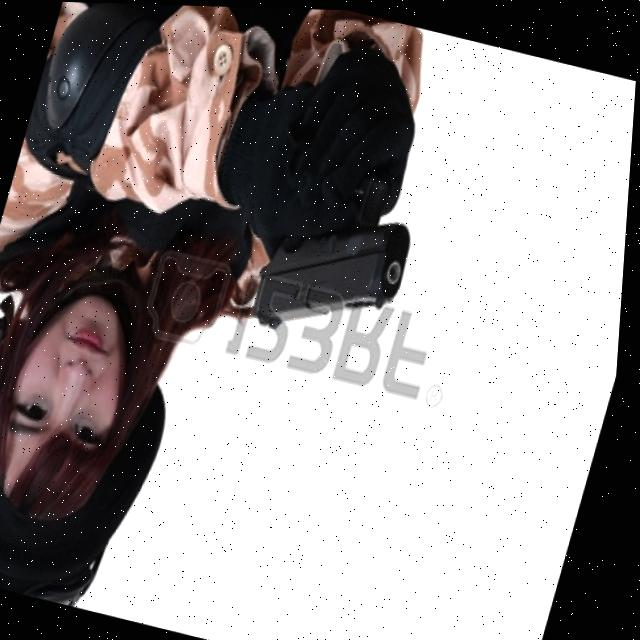pistol: (249, 148, 430, 355)
